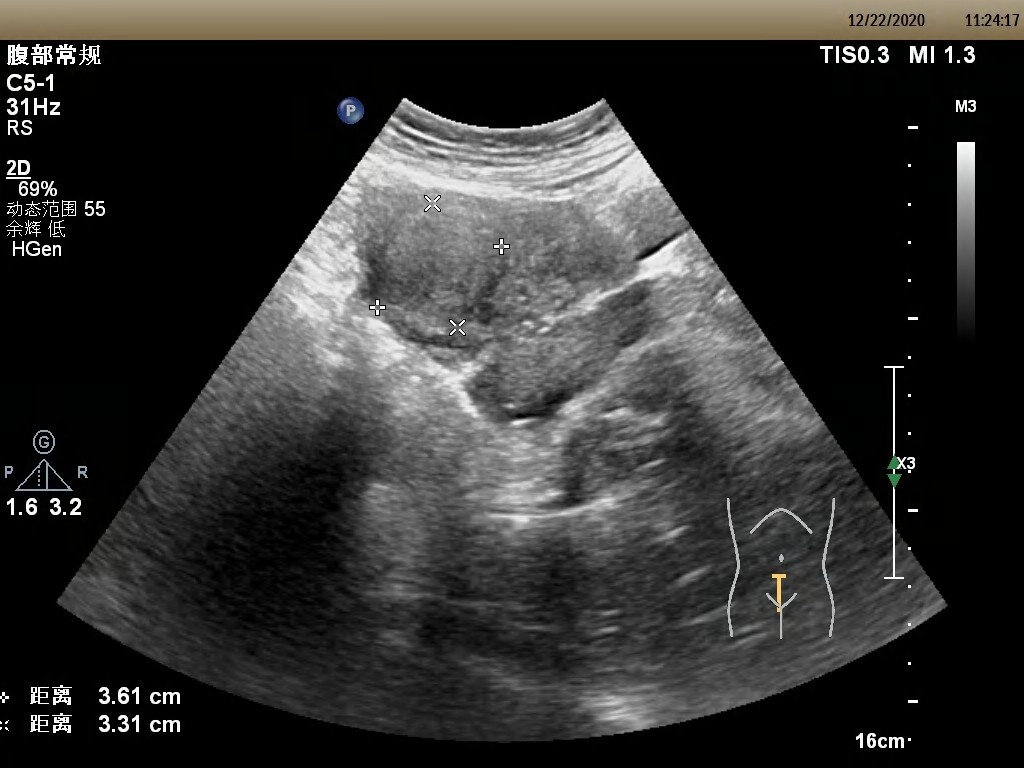肌瘤: (380, 200, 502, 326)
